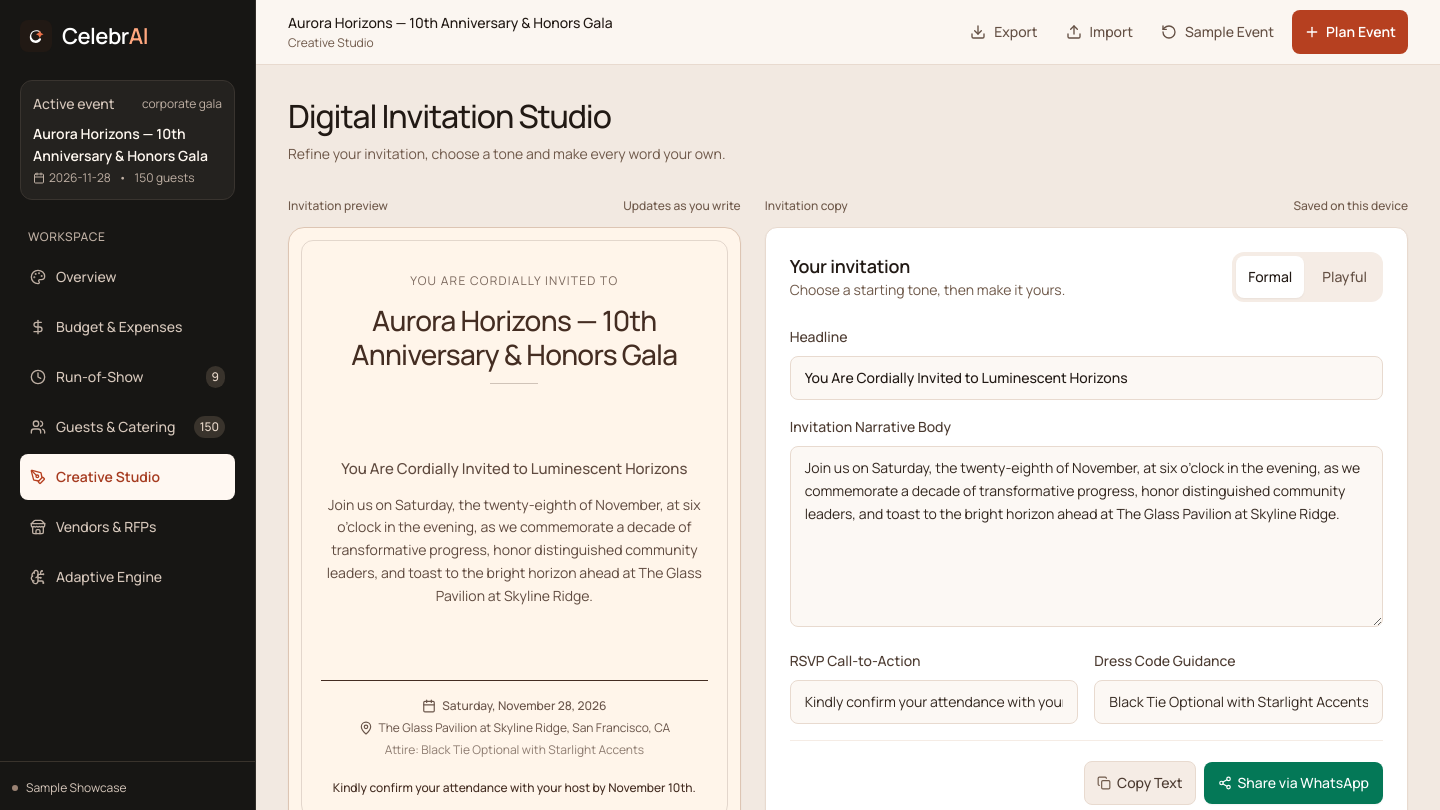
Test case: Redesign interaction regressions › reports clipboard rejection without announcing success
The width and height of the screenshot is (1440, 810).
Click the button "Copy Text" at x=1140, y=783, box [1084,761,1196,805]
(page scrolled)
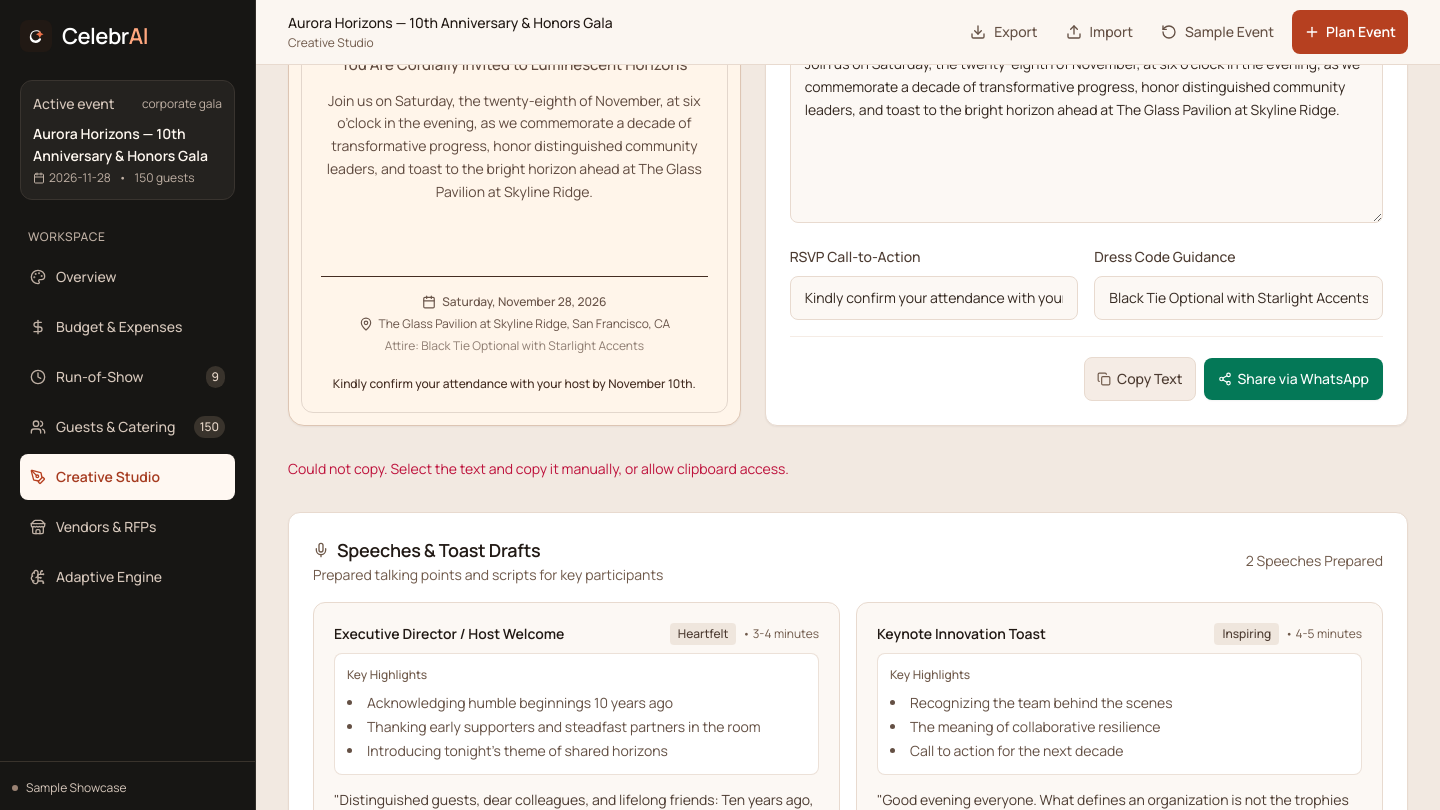
expect the message shows "Could not copy": met, box [288,459,789,478]
